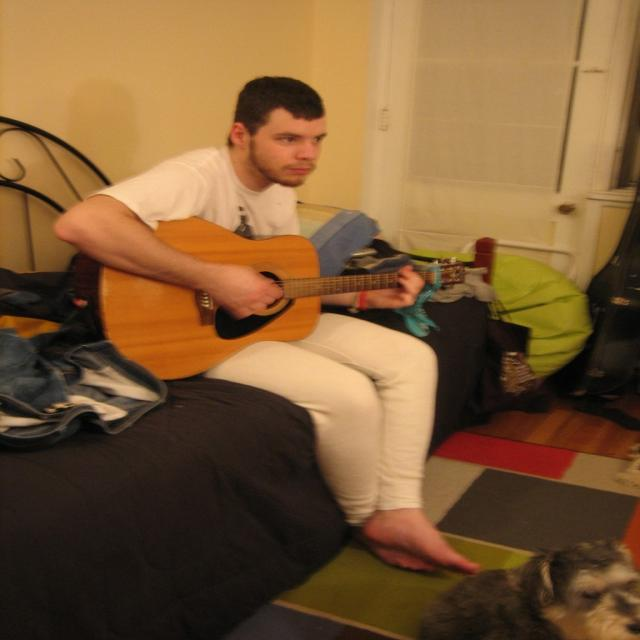guitar: (68, 213, 470, 382)
